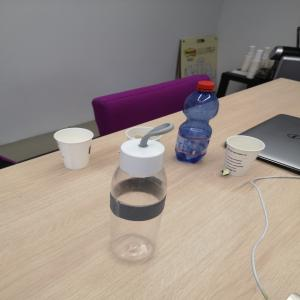Cup: (224, 136, 266, 178), (54, 128, 95, 171)
Plastic-bottle: (109, 138, 173, 268), (176, 81, 220, 166)
